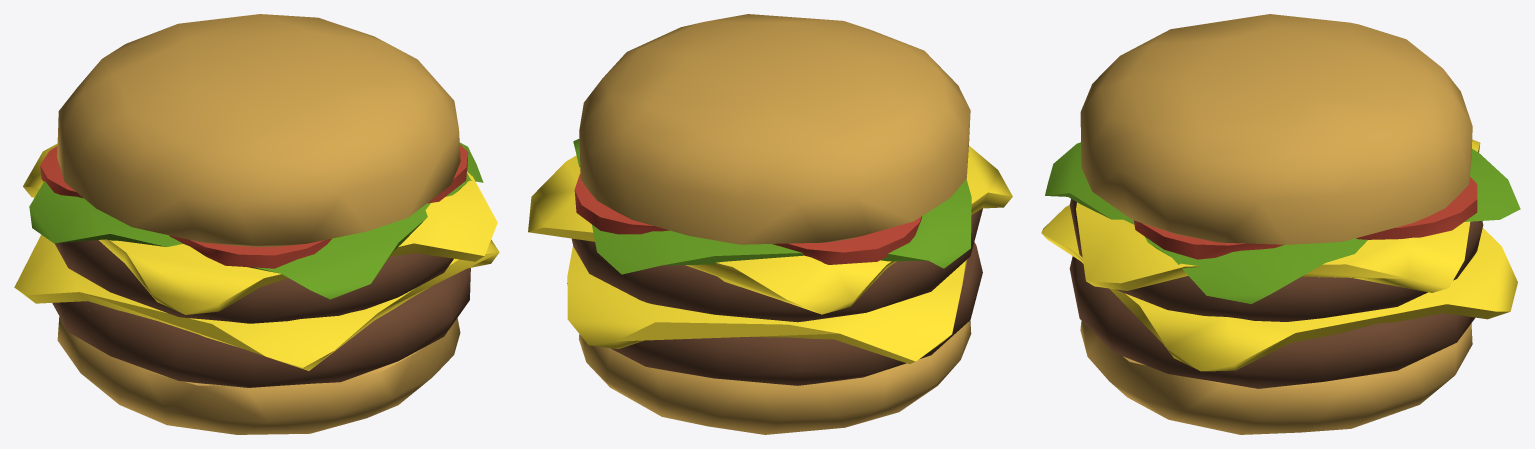
Rendered from hamburger_low_rootss64.fbx.
3 views of the same model, side by side, from view 1: azimuth 30°, elevation 25°; view 2: azimuth 150°, elevation 25°; view 3: azimuth 270°, elevation 25° (orthographic).
Parts seen in each view (by area): view 1: hamburger_low_sh_1, hamburger_low_sh_5, hamburger_low_sh_11, hamburger_low_sh_18, hamburger_low_sh_4, hamburger_low_sh_40, hamburger_low_sh_49, hamburger_low_sh_61, hamburger_low_sh_34, hamburger_low_sh_52, hamburger_low_sh_21, hamburger_low_sh_35 (+14 smaller); view 2: hamburger_low_sh_5, hamburger_low_sh_2, hamburger_low_sh_8, hamburger_low_sh_1, hamburger_low_sh_38, hamburger_low_sh_15, hamburger_low_sh_39, hamburger_low_sh_35, hamburger_low_sh_50, hamburger_low_sh_62, hamburger_low_sh_9, hamburger_low_sh_32 (+14 smaller); view 3: hamburger_low_sh_1, hamburger_low_sh_6, hamburger_low_sh_2, hamburger_low_sh_5, hamburger_low_sh_39, hamburger_low_sh_17, hamburger_low_sh_48, hamburger_low_sh_60, hamburger_low_sh_14, hamburger_low_sh_9, hamburger_low_sh_52, hamburger_low_sh_21 (+17 smaller).
Part boxes in pixels (box(x1,y1,x2,y2)): hamburger_low_sh_1: box(177, 45, 458, 228); hamburger_low_sh_5: box(57, 24, 319, 224); hamburger_low_sh_11: box(102, 353, 386, 434); hamburger_low_sh_18: box(88, 301, 388, 387); hamburger_low_sh_4: box(128, 182, 374, 247); hamburger_low_sh_40: box(75, 283, 385, 370); hamburger_low_sh_49: box(107, 240, 288, 314); hamburger_low_sh_61: box(88, 248, 384, 323); hamburger_low_sh_34: box(108, 229, 389, 299); hamburger_low_sh_52: box(390, 172, 497, 261); hamburger_low_sh_21: box(379, 268, 470, 364); hamburger_low_sh_35: box(29, 181, 140, 243); hamburger_low_sh_5: box(668, 49, 968, 244); hamburger_low_sh_2: box(579, 67, 716, 236); hamburger_low_sh_8: box(691, 338, 955, 434); hamburger_low_sh_1: box(676, 14, 961, 104); hamburger_low_sh_38: box(701, 285, 961, 364); hamburger_low_sh_15: box(691, 317, 957, 385); hamburger_low_sh_39: box(567, 245, 704, 348); hamburger_low_sh_35: box(687, 189, 971, 268); hamburger_low_sh_50: box(685, 255, 896, 301); hamburger_low_sh_62: box(674, 260, 956, 318); hamburger_low_sh_9: box(579, 334, 704, 425); hamburger_low_sh_32: box(592, 224, 698, 274); hamburger_low_sh_1: box(1080, 26, 1281, 192); hamburger_low_sh_6: box(1155, 94, 1375, 244); hamburger_low_sh_2: box(1330, 72, 1472, 220); hamburger_low_sh_5: box(1191, 14, 1464, 106); hamburger_low_sh_39: box(1222, 230, 1517, 370); hamburger_low_sh_17: box(1239, 313, 1475, 386); hamburger_low_sh_48: box(1302, 230, 1467, 292); hamburger_low_sh_60: box(1227, 226, 1482, 321); hamburger_low_sh_14: box(1125, 377, 1296, 434); hamburger_low_sh_9: box(1277, 323, 1472, 432); hamburger_low_sh_52: box(1076, 202, 1198, 290); hamburger_low_sh_21: box(1076, 270, 1204, 377).
Bounding box in the file's own units: 501 × 378 × 507.
Materials: 2 (1 with a texture image).
